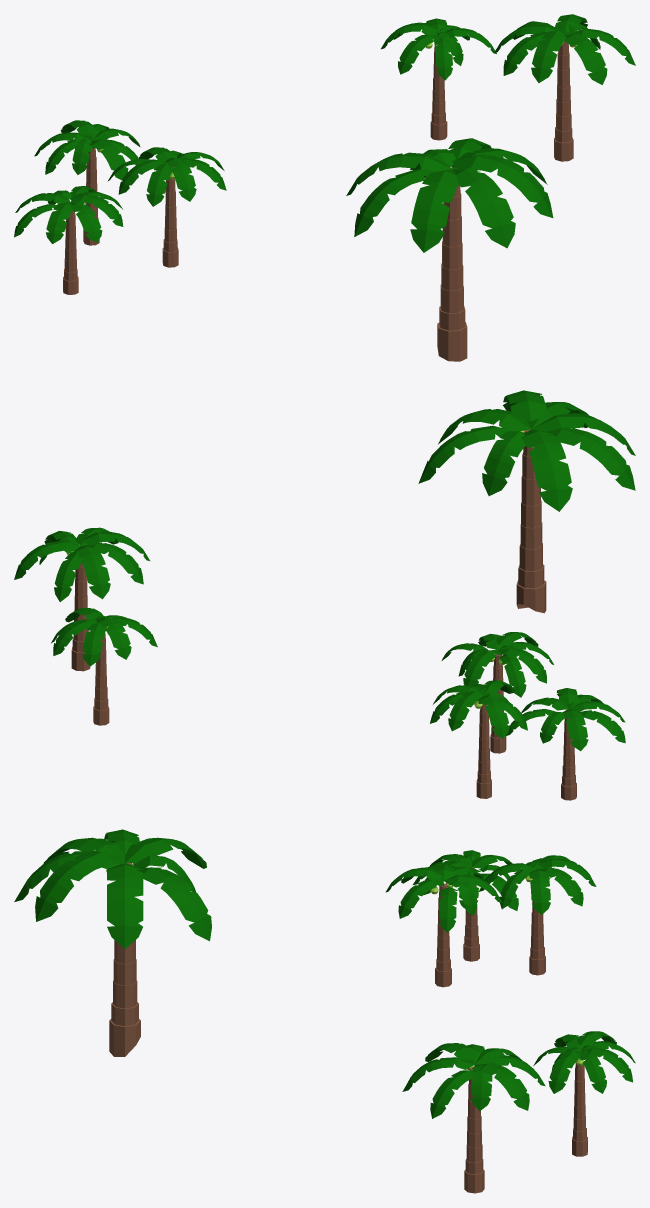
3 renders of one model, top to bottom at view 1: azimuth 30°, elevation 25°; view 2: azimuth 150°, elevation 25°; view 3: azimuth 270°, elevation 25°, orthographic. The views are drawn at different scales.
Visible parts, largest first — view 1: tree_1, tree_2, tree_6, tree_5, tree_3, tree_4; view 2: tree_1, tree_2, tree_5, tree_4, tree_3, tree_6; view 3: tree_1, tree_2, tree_3, tree_6, tree_4, tree_5.
Part boxes in pixels (box(x1,y1,x2,y2)): tree_1: box(346, 138, 553, 361); tree_2: box(494, 14, 635, 161); tree_6: box(107, 147, 226, 267); tree_5: box(14, 186, 123, 294); tree_3: box(381, 18, 496, 140); tree_4: box(34, 120, 140, 245); tree_1: box(418, 390, 635, 613); tree_2: box(14, 527, 149, 671); tree_5: box(506, 688, 625, 800); tree_4: box(430, 680, 527, 798); tree_3: box(51, 608, 157, 725); tree_6: box(441, 632, 553, 753); tree_1: box(14, 829, 211, 1056); tree_2: box(402, 1043, 545, 1193); tree_3: box(533, 1031, 635, 1156); tree_6: box(385, 864, 502, 987); tree_4: box(478, 855, 596, 975); tree_5: box(413, 850, 518, 961).
Size of the model in its own units: 18.08 by 6.14 by 15.98.
